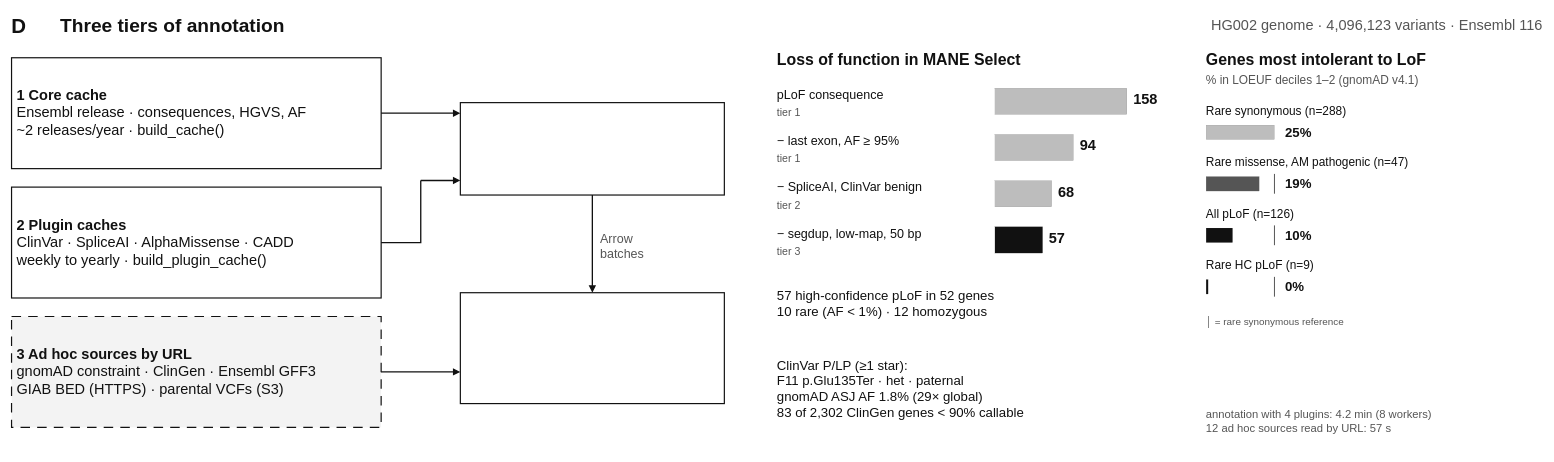
Image size: 1554x462. Some labels were removed from this diagram. Here are the shapes that lost their labels. From the top down, the centre of each, then its label:
At (x=592, y=148): "vepyr.annotate() core + plugin fields Polars LazyFrame".
At (x=592, y=348): "polars-bio · Polars overlap() · coverage() joins · group_by".
